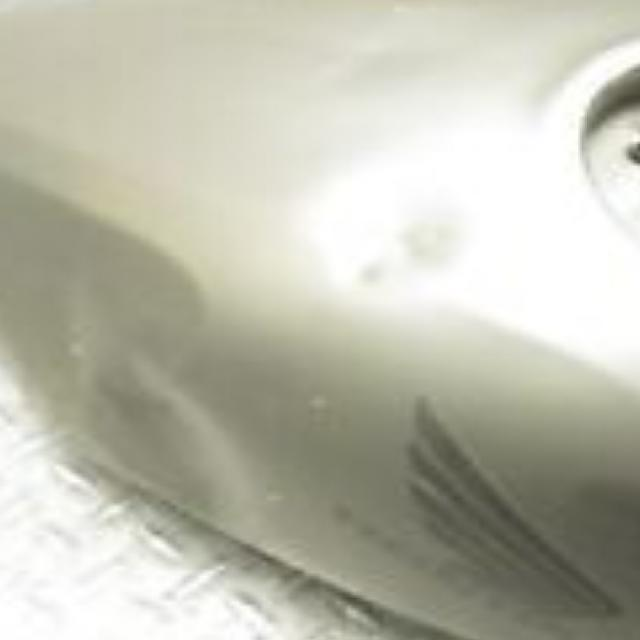dents: (3, 171, 237, 447), (281, 177, 540, 317)
